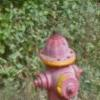Hydrant: (31, 22, 86, 100)
